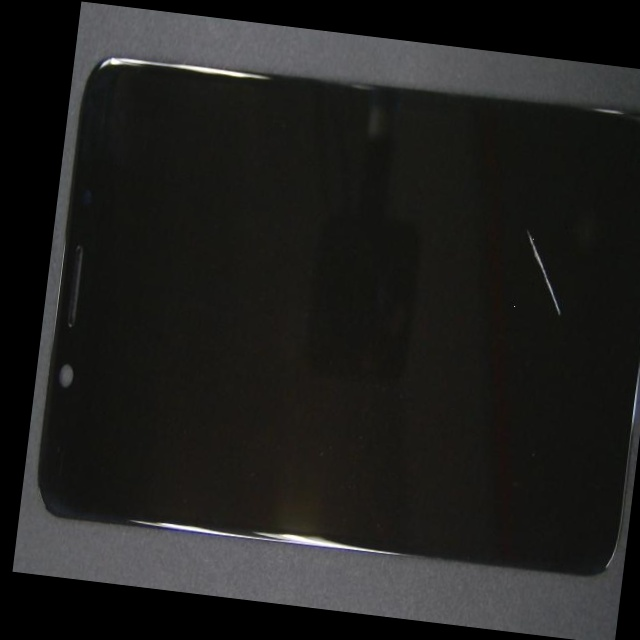scratch: (290, 165, 640, 473)
